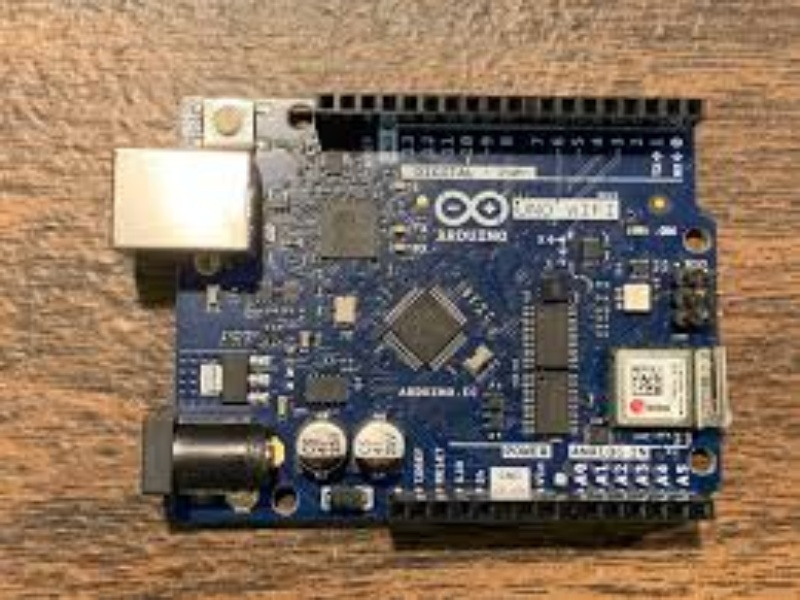uno: (93, 56, 716, 524)
